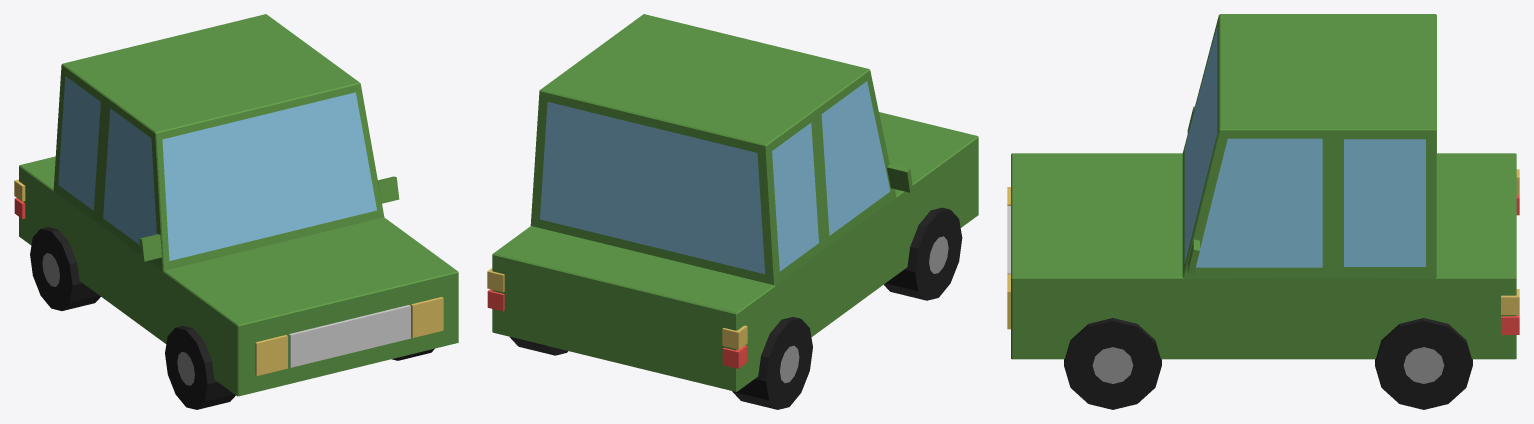
File: car1.fbx
3 renders of one model, left to right at view 1: azimuth 30°, elevation 25°; view 2: azimuth 150°, elevation 25°; view 3: azimuth 270°, elevation 25°, orthographic. The views are drawn at different scales.
Visible parts, largest first — view 1: Car1, Wheel.BR, Wheel.FR; view 2: Car1, Wheel.BR, Wheel.FR; view 3: Car1, Wheel.BL, Wheel.FL.
Part boxes in pixels (x1=…): Car1: x1=14, y1=14, x2=458, y2=396; Wheel.BR: x1=30, y1=227, x2=100, y2=310; Wheel.FR: x1=165, y1=326, x2=235, y2=409; Car1: x1=487, y1=14, x2=978, y2=391; Wheel.BR: x1=732, y1=317, x2=812, y2=409; Wheel.FR: x1=884, y1=207, x2=962, y2=300; Car1: x1=1007, y1=14, x2=1519, y2=359; Wheel.BL: x1=1375, y1=318, x2=1472, y2=409; Wheel.FL: x1=1064, y1=318, x2=1161, y2=409.
Bounding box in the file's own units: 168 × 149 × 253.
